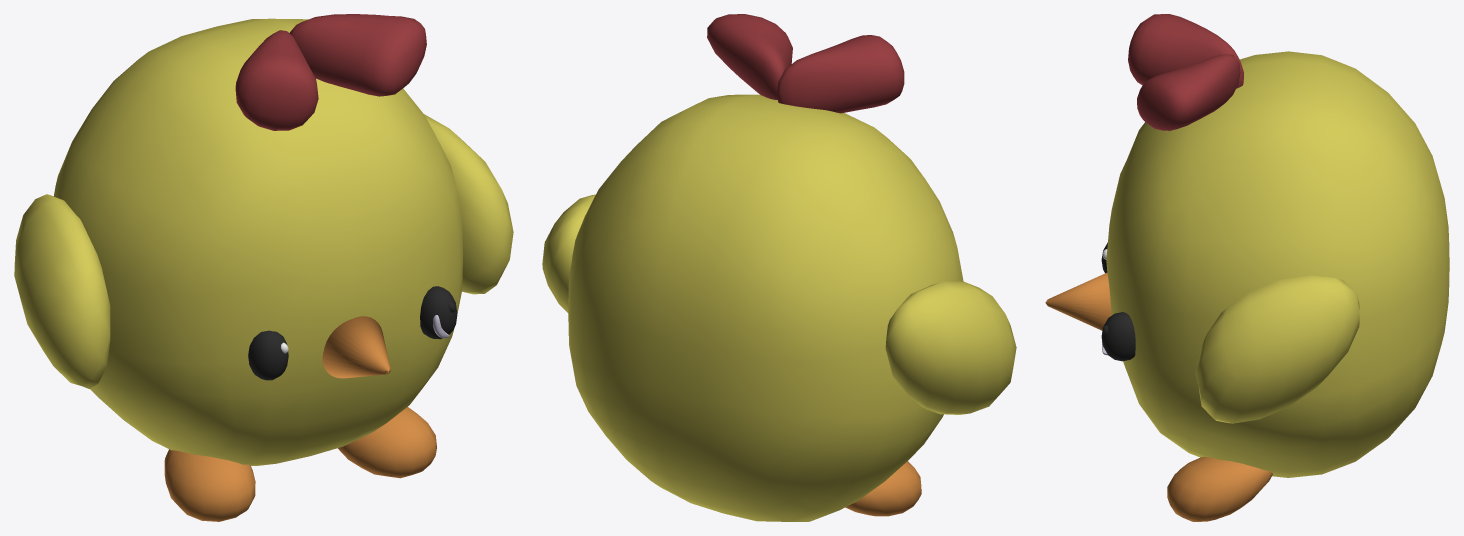
The model's file is chicken_child.glb.
3 views of the same model, side by side, from view 1: azimuth 30°, elevation 25°; view 2: azimuth 150°, elevation 25°; view 3: azimuth 270°, elevation 25° (orthographic). The views are drawn at different scales.
Parts seen in each view (by area): view 1: ChickenMerge; view 2: ChickenMerge; view 3: ChickenMerge.
Part boxes in pixels (x1,y1,x2,y2): ChickenMerge: (14,14,513,521); ChickenMerge: (542,14,1016,521); ChickenMerge: (1045,14,1449,521).
Bounding box in the file's own units: 0.4536 × 0.4364 × 0.3689.
